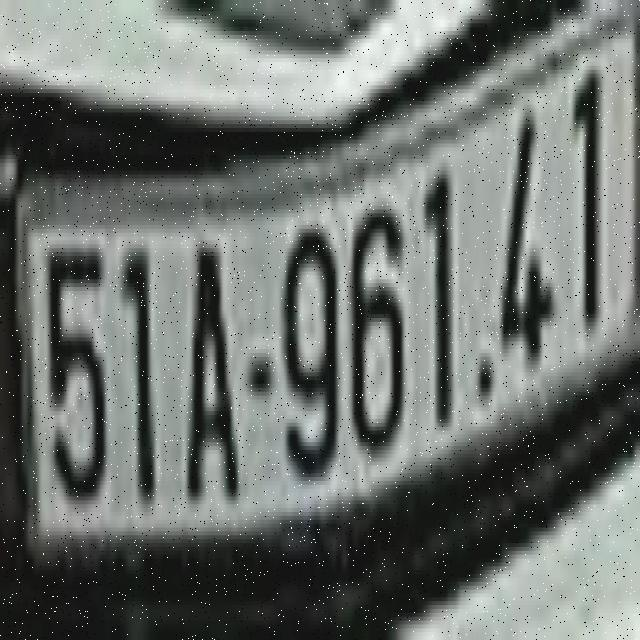1: (568, 41, 612, 367), (418, 144, 464, 446), (119, 223, 162, 514)
4: (497, 83, 555, 406)
5: (46, 223, 108, 514)
6: (351, 167, 406, 465)
9: (281, 208, 341, 490)
A: (182, 221, 242, 508)
